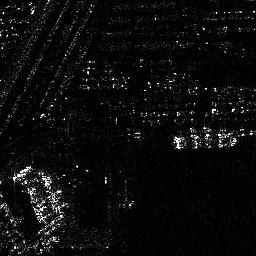ship: (169, 132, 240, 150)
